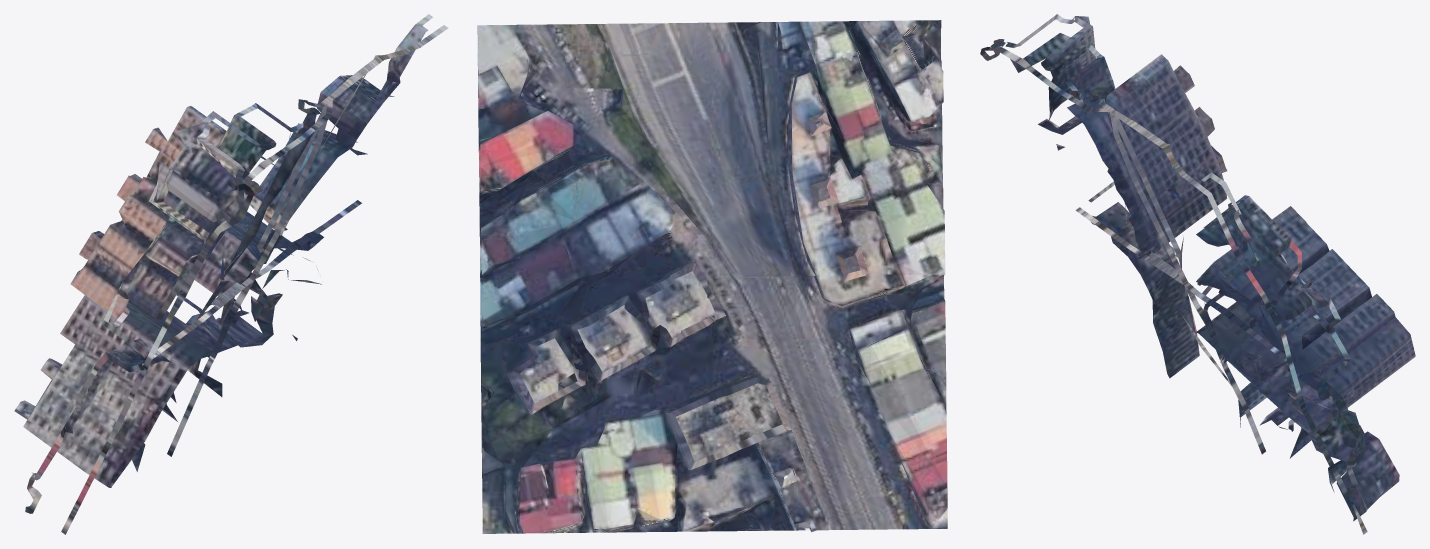
3 views of the same model, side by side, from view 1: azimuth 30°, elevation 25°; view 2: azimuth 150°, elevation 25°; view 3: azimuth 270°, elevation 25° (orthographic). The views are drawn at different scales.
Bounding box in the file's own units: 160 × 151 × 145.
1 material, 1 textured.
